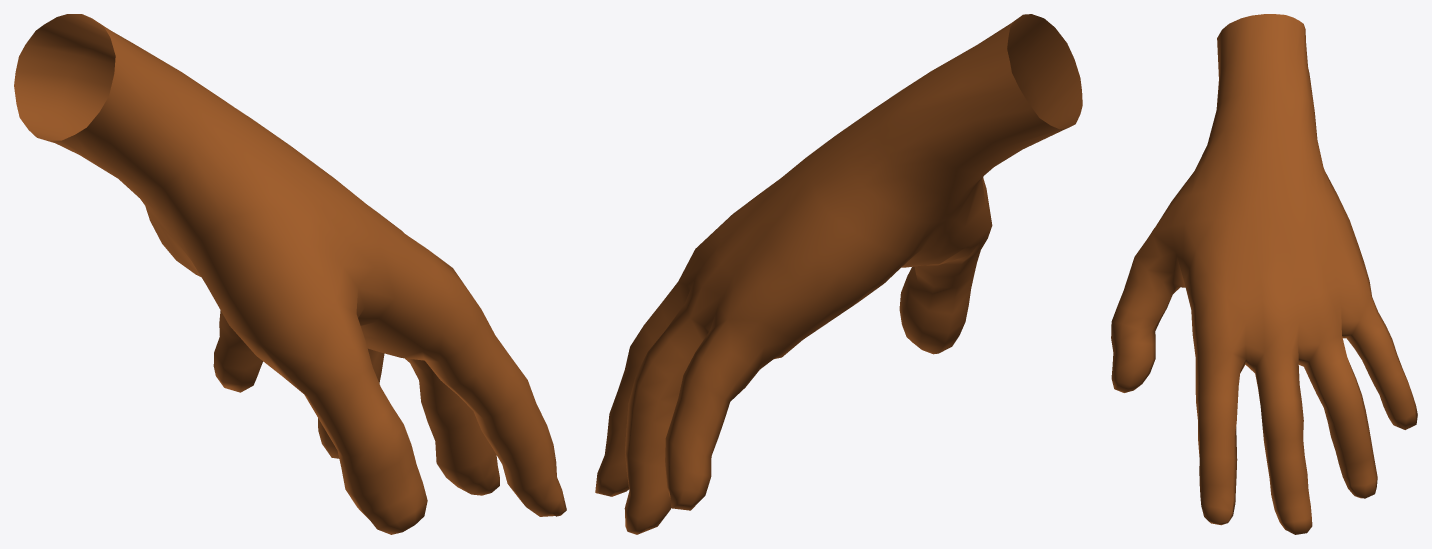
The model's file is hwand.fbx.
3 views of the same model, side by side, from view 1: azimuth 30°, elevation 25°; view 2: azimuth 150°, elevation 25°; view 3: azimuth 270°, elevation 25° (orthographic). The views are drawn at different scales.
Visible parts, largest first — view 1: Body.001; view 2: Body.001; view 3: Body.001.
Part boxes in pixels (x1,y1,x2,y2): Body.001: [14, 14, 566, 534]; Body.001: [595, 14, 1082, 534]; Body.001: [1111, 14, 1417, 534].
Size of the model in its own units: 24.47 by 27.87 by 20.
